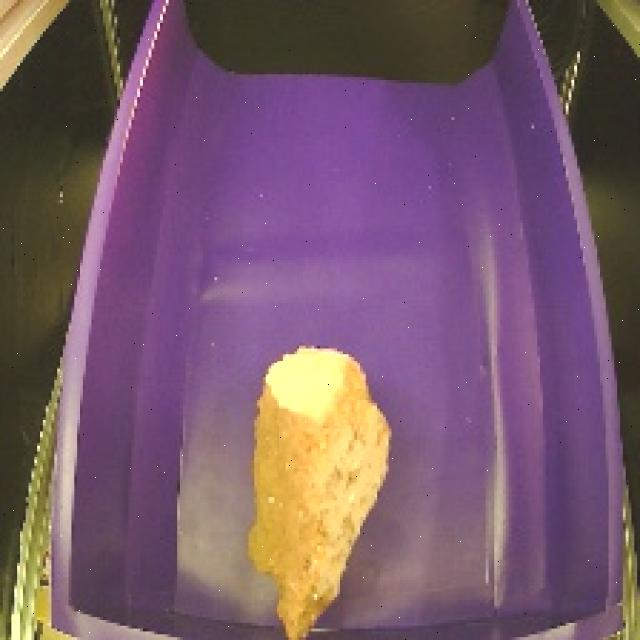brick: (240, 334, 406, 640)
